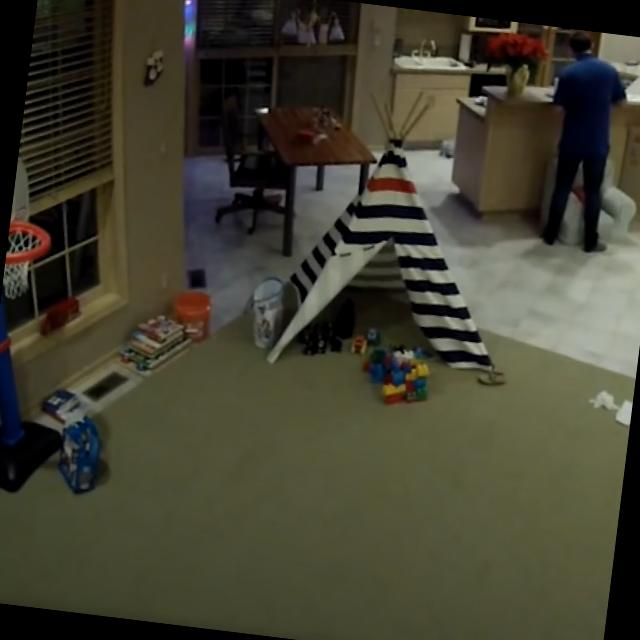person: (530, 28, 636, 254)
